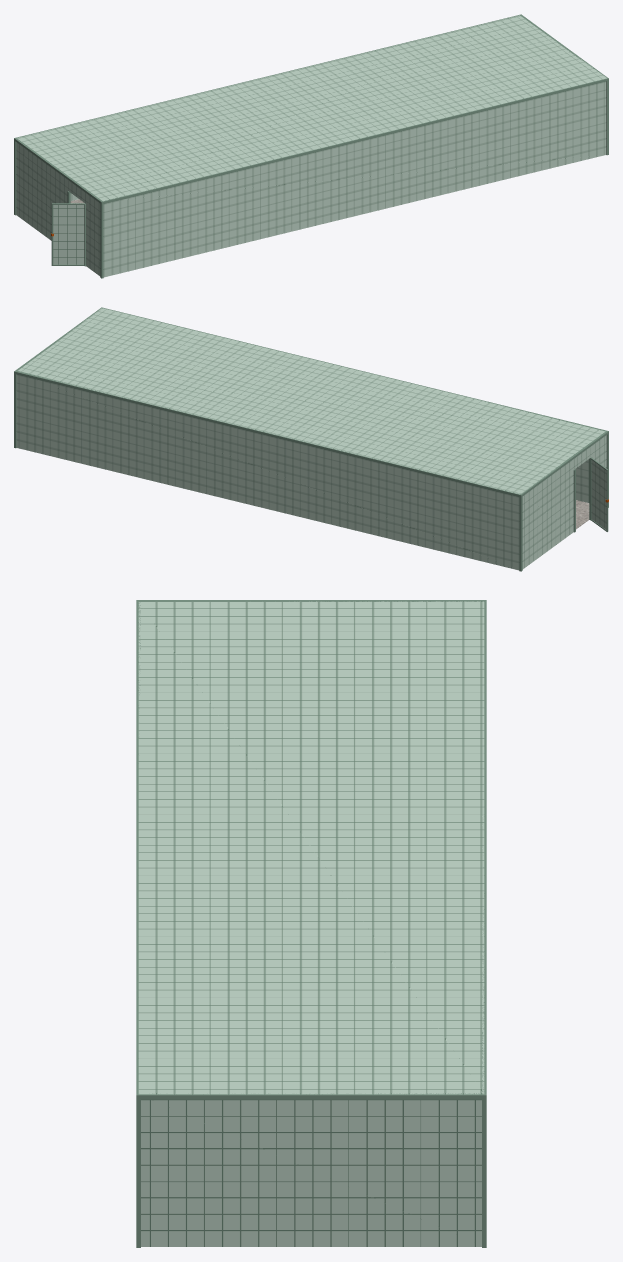
Rendered from poi08_invernadero_nave2_preview.glb.
3 renders of one model, top to bottom at view 1: azimuth 30°, elevation 25°; view 2: azimuth 150°, elevation 25°; view 3: azimuth 270°, elevation 25°, orthographic. The views are drawn at different scales.
Visible parts, largest first — view 1: techo_plano_malla_sombra, envolvente_malla_sombra, vigas_perimetrales, puerta_P1; view 2: techo_plano_malla_sombra, envolvente_malla_sombra, vigas_perimetrales, puerta_P1; view 3: techo_plano_malla_sombra, envolvente_malla_sombra, vigas_perimetrales.
Boxes of the visible parts, left/top/right/bottom form: techo_plano_malla_sombra: left=17, top=15, right=606, bottom=201; envolvente_malla_sombra: left=16, top=81, right=606, bottom=277; vigas_perimetrales: left=14, top=14, right=607, bottom=203; puerta_P1: left=51, top=203, right=84, bottom=265; techo_plano_malla_sombra: left=17, top=308, right=605, bottom=494; envolvente_malla_sombra: left=16, top=374, right=606, bottom=570; vigas_perimetrales: left=15, top=308, right=608, bottom=496; puerta_P1: left=591, top=458, right=608, bottom=531; techo_plano_malla_sombra: left=138, top=601, right=484, bottom=1094; envolvente_malla_sombra: left=141, top=1099, right=481, bottom=1246; vigas_perimetrales: left=136, top=600, right=486, bottom=1099.
Size of the model in its own units: 20.43 by 2.8 by 5.83.
Materials: 5 (2 with a texture image).
